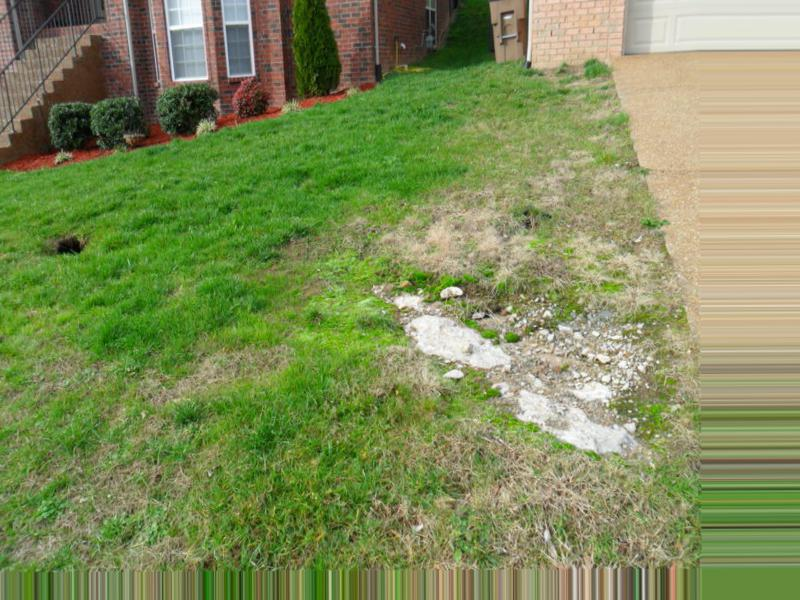patch: (28, 460, 158, 556), (408, 198, 532, 282), (161, 345, 344, 395), (532, 338, 610, 442), (413, 385, 516, 462), (567, 230, 653, 319), (401, 318, 530, 365)
